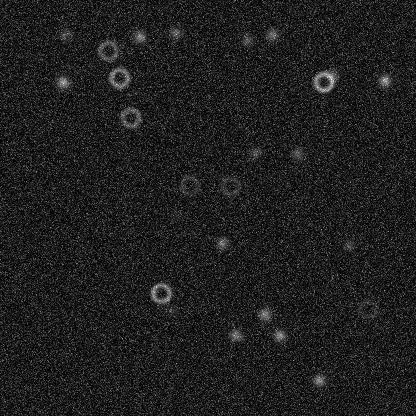Ring: (107, 65, 131, 89), (311, 69, 335, 93), (218, 174, 242, 198), (118, 105, 142, 129), (96, 38, 120, 62), (355, 296, 379, 320), (149, 281, 173, 305), (177, 173, 201, 197)
Spot: (271, 327, 287, 343), (376, 72, 392, 88), (325, 66, 341, 82), (57, 26, 73, 42), (131, 28, 147, 44), (310, 372, 326, 388), (289, 145, 305, 161), (340, 236, 356, 252), (163, 302, 179, 318), (256, 305, 272, 321), (168, 207, 184, 223), (246, 144, 262, 160), (54, 74, 70, 90), (167, 24, 183, 40), (214, 235, 230, 251), (239, 32, 255, 48), (227, 327, 243, 343), (263, 26, 279, 42)
